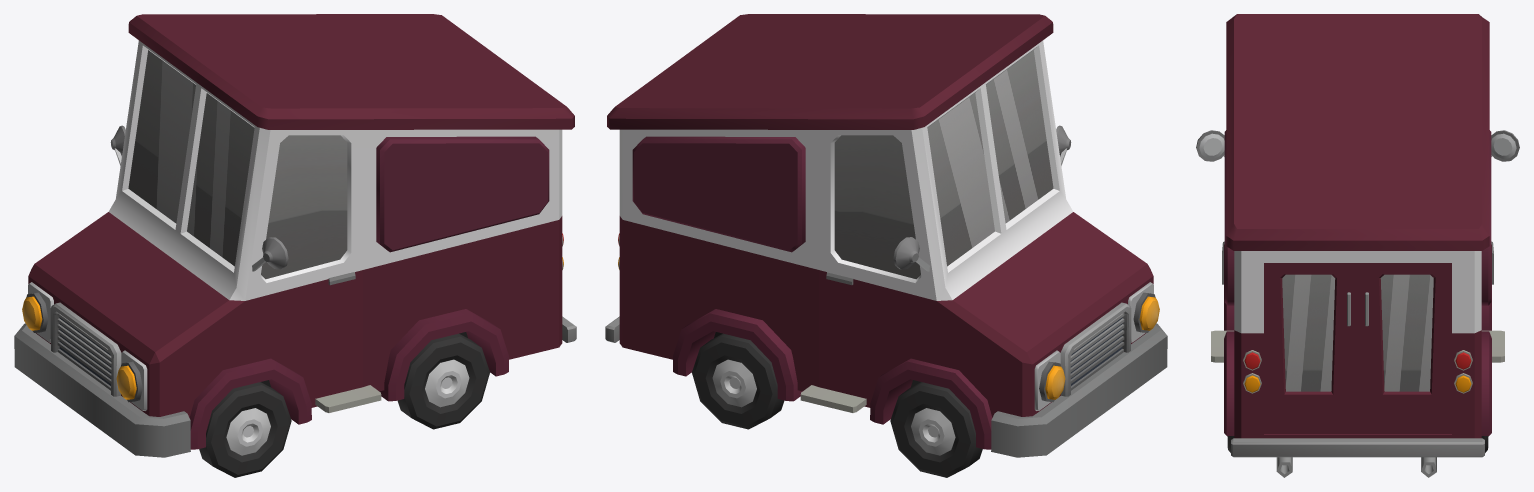
File: Car_15_J.gltf
3 renders of one model, left to right at view 1: azimuth 30°, elevation 25°; view 2: azimuth 150°, elevation 25°; view 3: azimuth 270°, elevation 25°, orthographic. The views are drawn at different scales.
Visible parts, largest first — view 1: Car_15_J, RL, FL; view 2: Car_15_J, RR, FR; view 3: Car_15_J.
Boxes of the visible parts, x1=… form: Car_15_J: x1=14, y1=14, x2=576, y2=457; RL: x1=397, y1=333, x2=489, y2=429; FL: x1=199, y1=382, x2=291, y2=477; Car_15_J: x1=605, y1=14, x2=1167, y2=457; RR: x1=692, y1=333, x2=784, y2=429; FR: x1=890, y1=382, x2=982, y2=477; Car_15_J: x1=1196, y1=14, x2=1519, y2=477.
Bounding box in the file's own units: 2.75 × 2.13 × 1.8.
Materials: 4 (4 with a texture image).
